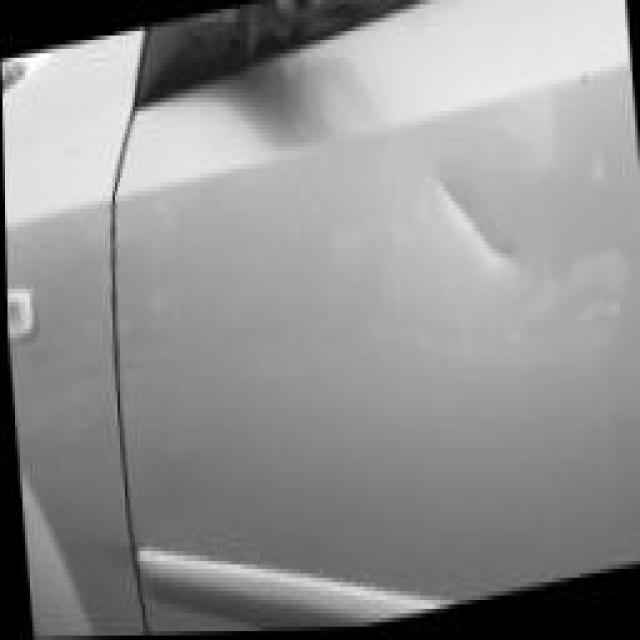Door: (395, 111, 539, 333)
